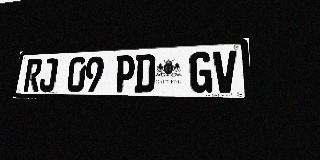0: (66, 57, 87, 92)
9: (84, 56, 104, 92)
D: (134, 54, 156, 92)
G: (189, 51, 212, 93)
J: (39, 58, 58, 92)
P: (114, 55, 135, 92)
R: (23, 59, 43, 92)
V: (213, 50, 238, 93)
